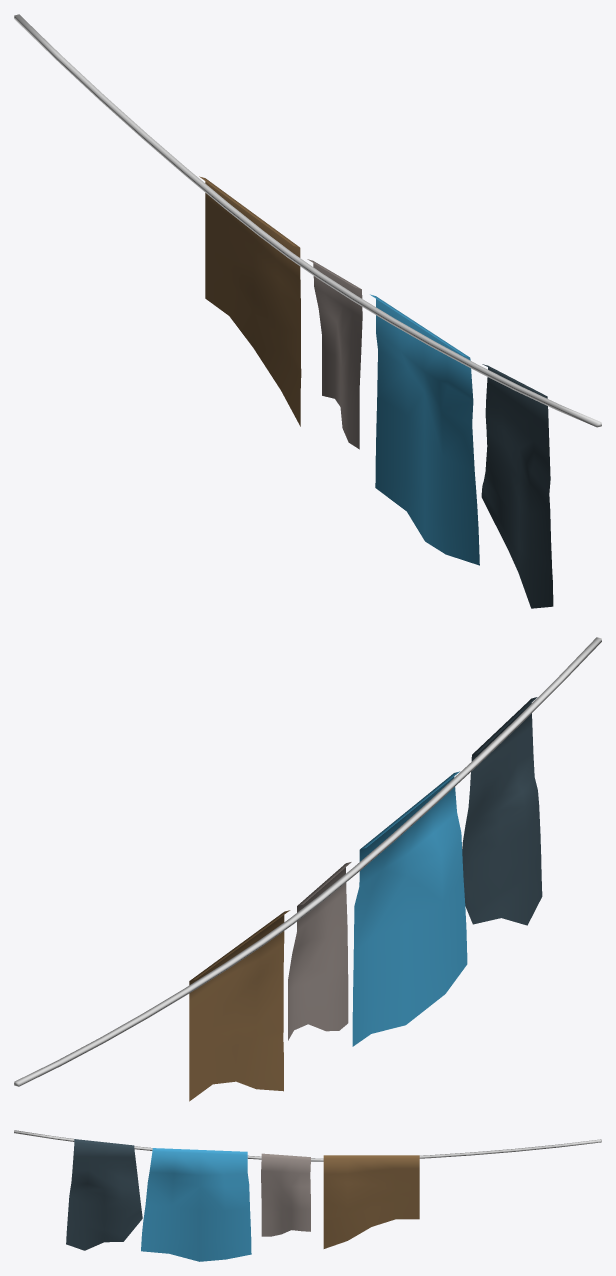
File: LaundrySheets_c.fbx
3 renders of one model, top to bottom at view 1: azimuth 30°, elevation 25°; view 2: azimuth 150°, elevation 25°; view 3: azimuth 270°, elevation 25°, orthographic. The views are drawn at different scales.
Parts seen in each view (by area): view 1: Cube.012, Line.001; view 2: Cube.012, Line.001; view 3: Cube.012, Line.001.
Boxes of the visible parts, x1,y1,x2,y2 form: Cube.012: (199, 176, 553, 608); Line.001: (14, 14, 601, 427); Cube.012: (189, 697, 542, 1101); Line.001: (14, 637, 601, 1086); Cube.012: (66, 1139, 419, 1261); Line.001: (14, 1130, 601, 1161).
Bounding box in the file's own units: 0.1833 × 8.08 × 1.95.
